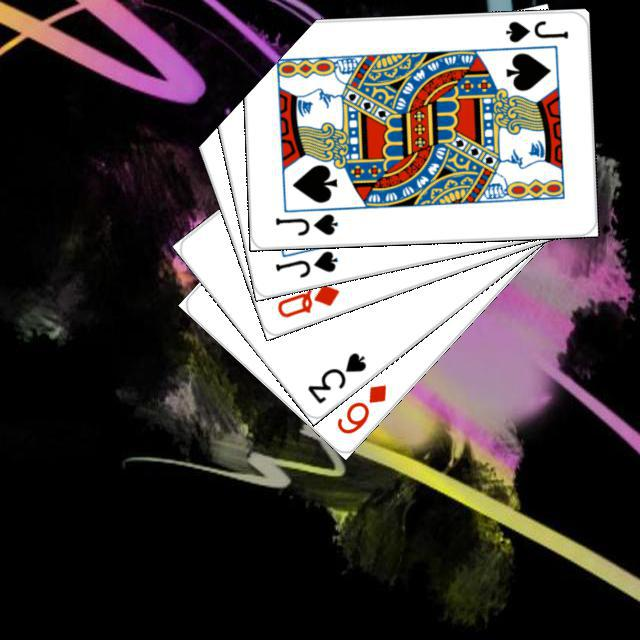3s: (302, 347, 369, 406)
6d: (331, 379, 389, 436)
Js: (270, 245, 339, 280), (500, 16, 570, 44), (270, 209, 339, 237)
Qd: (272, 279, 341, 320)
